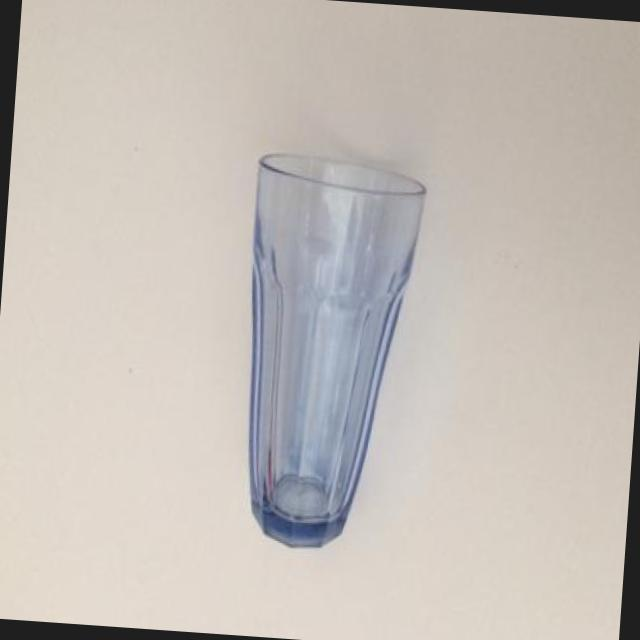chai_thuy_tinh: (249, 155, 426, 547)
